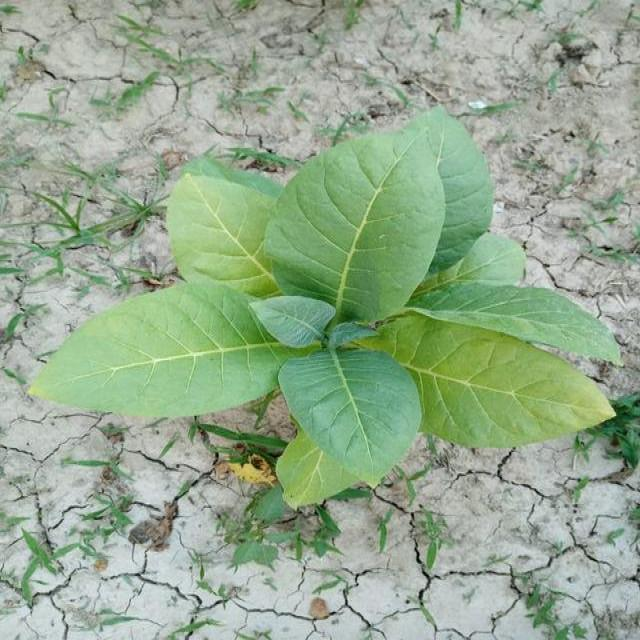crop: (39, 122, 619, 500)
